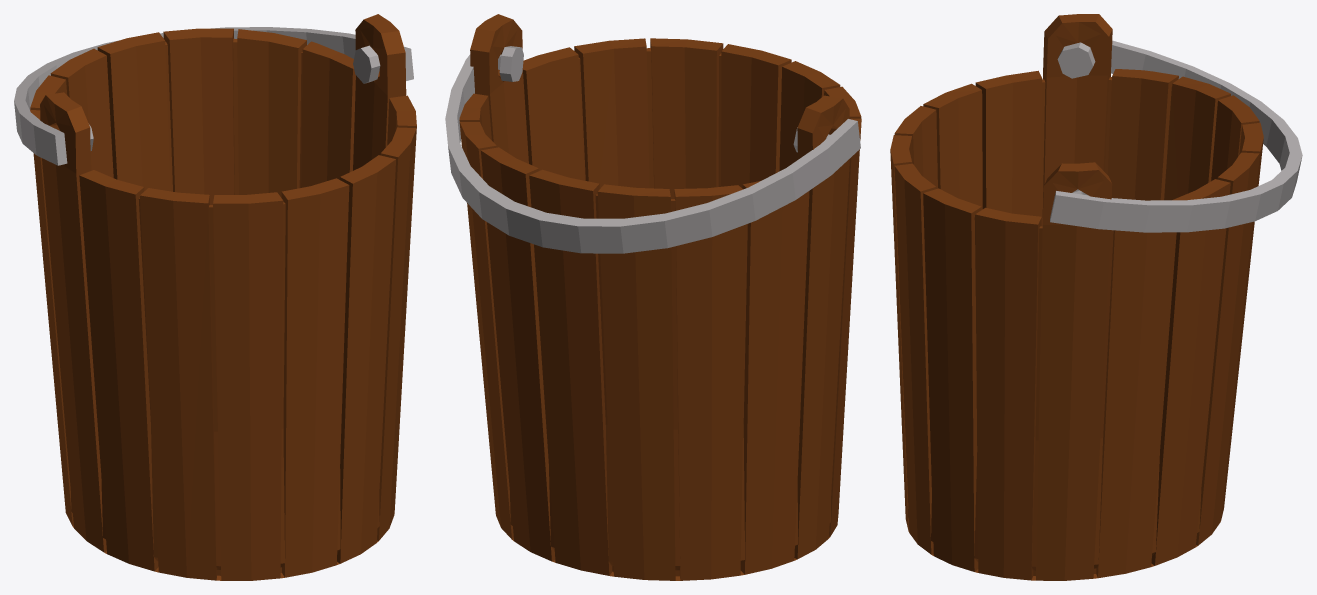
The model's file is Balde.fbx.
3 views of the same model, side by side, from view 1: azimuth 30°, elevation 25°; view 2: azimuth 150°, elevation 25°; view 3: azimuth 270°, elevation 25° (orthographic). The views are drawn at different scales.
Parts seen in each view (by area): view 1: Circle.001; view 2: Circle.001; view 3: Circle.001.
Boxes of the visible parts, x1,y1,x2,y2 form: Circle.001: [14, 14, 416, 580]; Circle.001: [445, 14, 861, 580]; Circle.001: [890, 14, 1302, 580].
Size of the model in its own units: 37.76 by 45.09 by 39.43.
